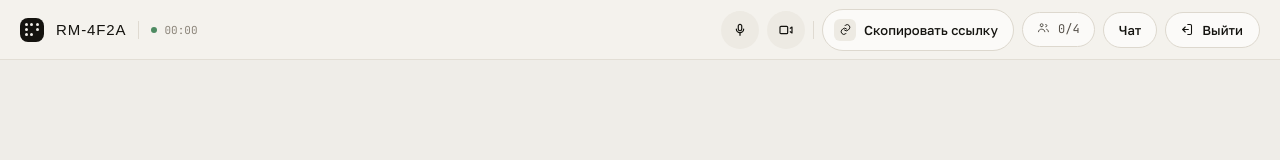
RoomTopBar (Design addendum §3/§5.2/§5.3, критерий приёмки задачи 38) › «Скопировать ссылку» + тост (README §4: автоскрытие 2200ms) › пишет URL комнаты в буфер и показывает тост
Step 1. Click the button with test id "copy-link-button" → (918,30), box [822, 8, 1014, 50]
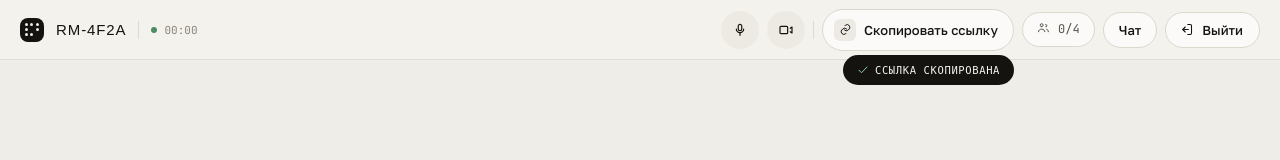
Now the message "ссылка скопирована" is shown, box [843, 54, 1014, 84]
